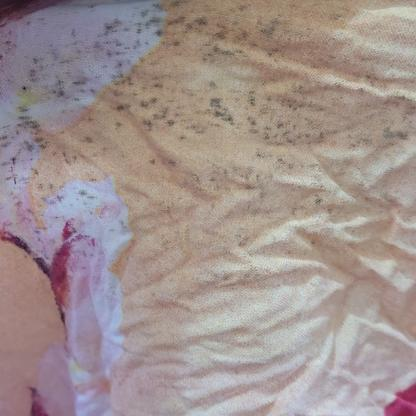spot: (19, 50, 103, 119), (0, 114, 56, 216), (95, 67, 179, 123), (155, 87, 271, 125), (99, 10, 166, 69), (208, 163, 271, 196), (252, 121, 318, 151), (211, 22, 264, 58), (32, 184, 116, 203), (279, 89, 328, 114), (386, 84, 416, 122), (254, 147, 298, 172), (170, 12, 219, 30), (70, 27, 102, 53), (0, 29, 25, 61), (336, 131, 372, 152), (182, 168, 212, 193), (204, 76, 226, 110), (310, 168, 327, 207), (378, 127, 416, 144), (196, 40, 224, 63), (144, 154, 184, 170), (254, 15, 290, 32), (139, 112, 158, 140), (257, 47, 290, 61), (168, 37, 190, 57), (58, 151, 82, 165), (27, 12, 50, 26), (230, 237, 252, 251), (289, 204, 313, 216), (85, 0, 101, 15), (81, 131, 99, 142)
